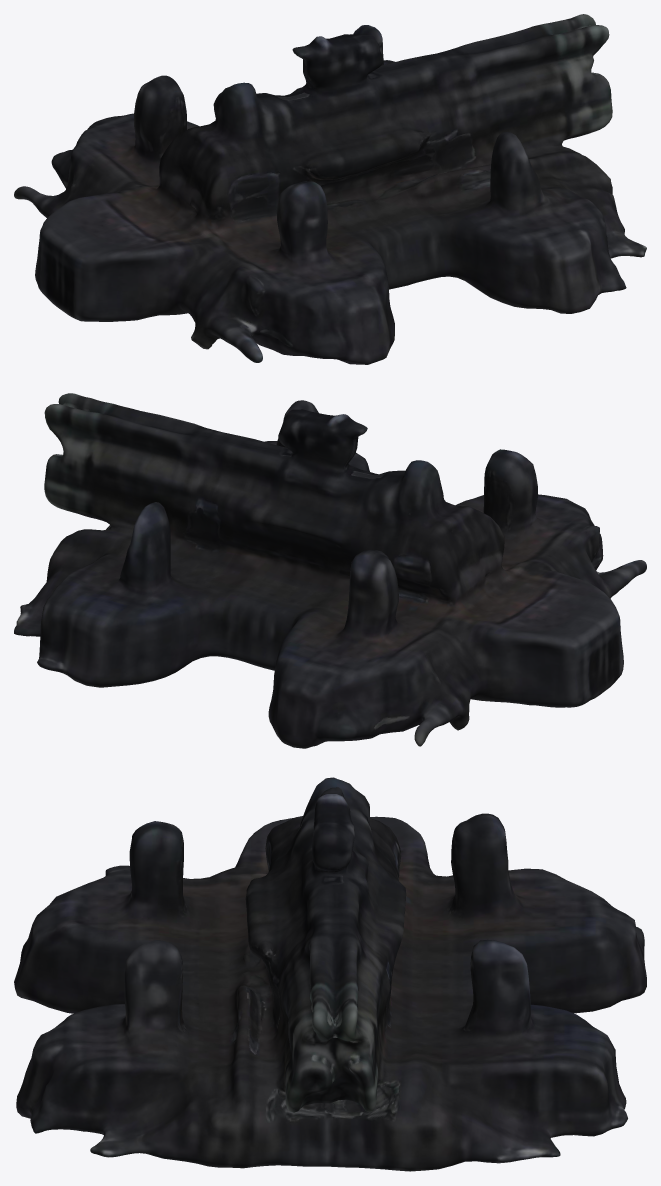
File: 4ece67099b81_create_a_ship__one_.fbx
3 renders of one model, top to bottom at view 1: azimuth 30°, elevation 25°; view 2: azimuth 150°, elevation 25°; view 3: azimuth 270°, elevation 25°, orthographic. The views are drawn at different scales.
Visible parts, largest first — view 1: mesh; view 2: mesh; view 3: mesh.
Part boxes in pixels (x1,y1,x2,y2): mesh: [14, 14, 646, 364]; mesh: [14, 393, 646, 748]; mesh: [14, 777, 646, 1171].
Bounding box in the file's own units: 99.66 × 37.55 × 85.53.
